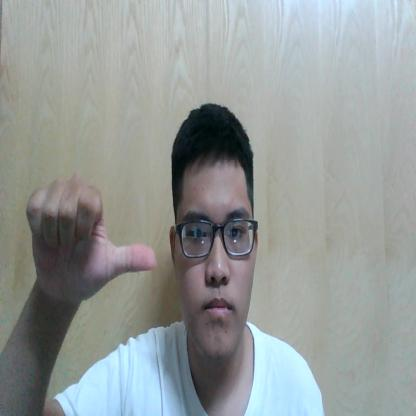left: (27, 172, 157, 301)
